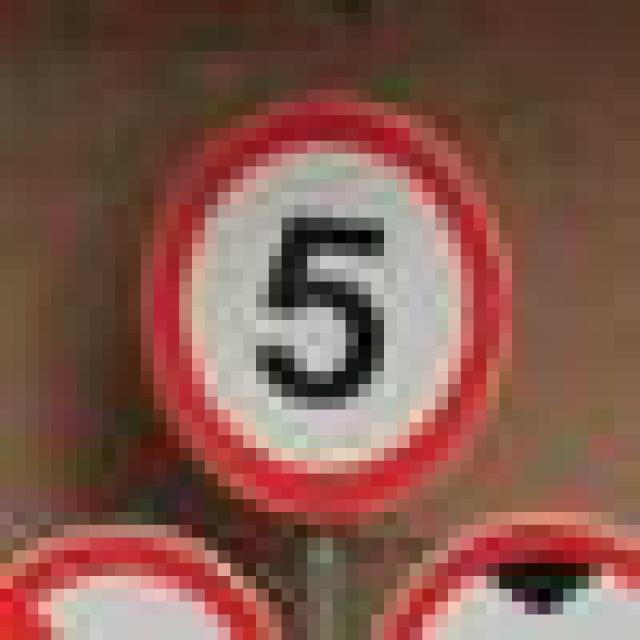speed_limit_20: (102, 77, 512, 512)
